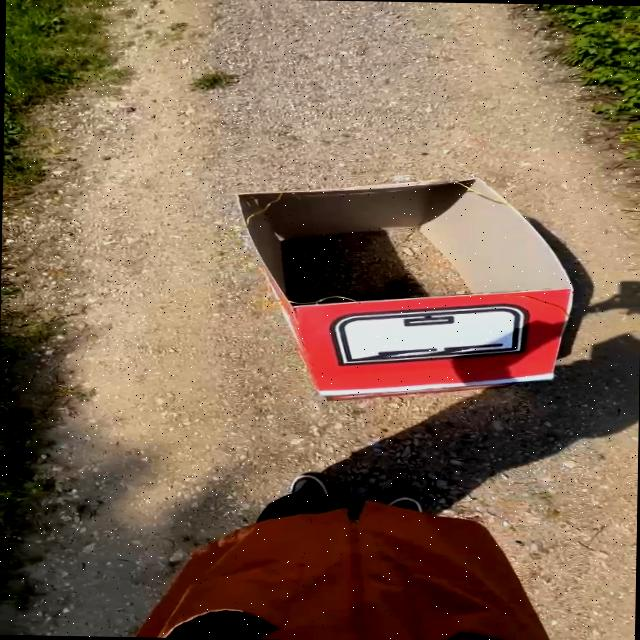red_car: (187, 118, 603, 440)
